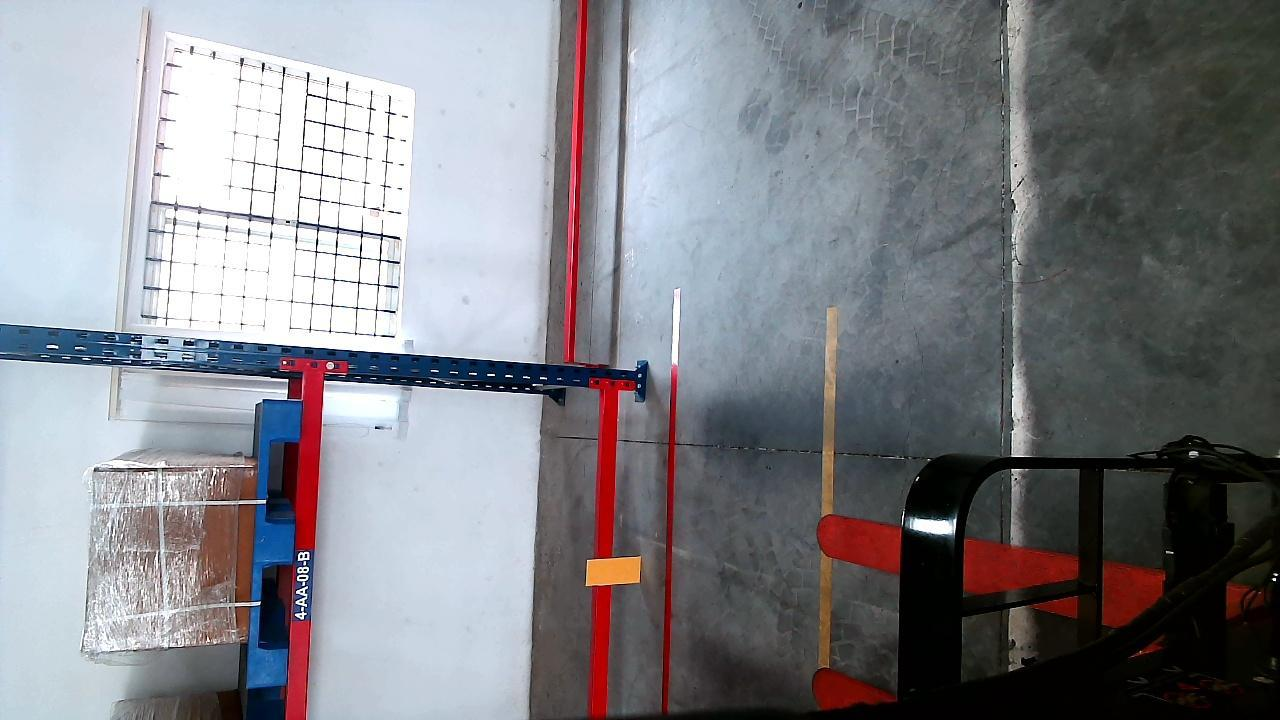red_line: (657, 289, 681, 714)
yellow_line: (817, 306, 839, 672)
